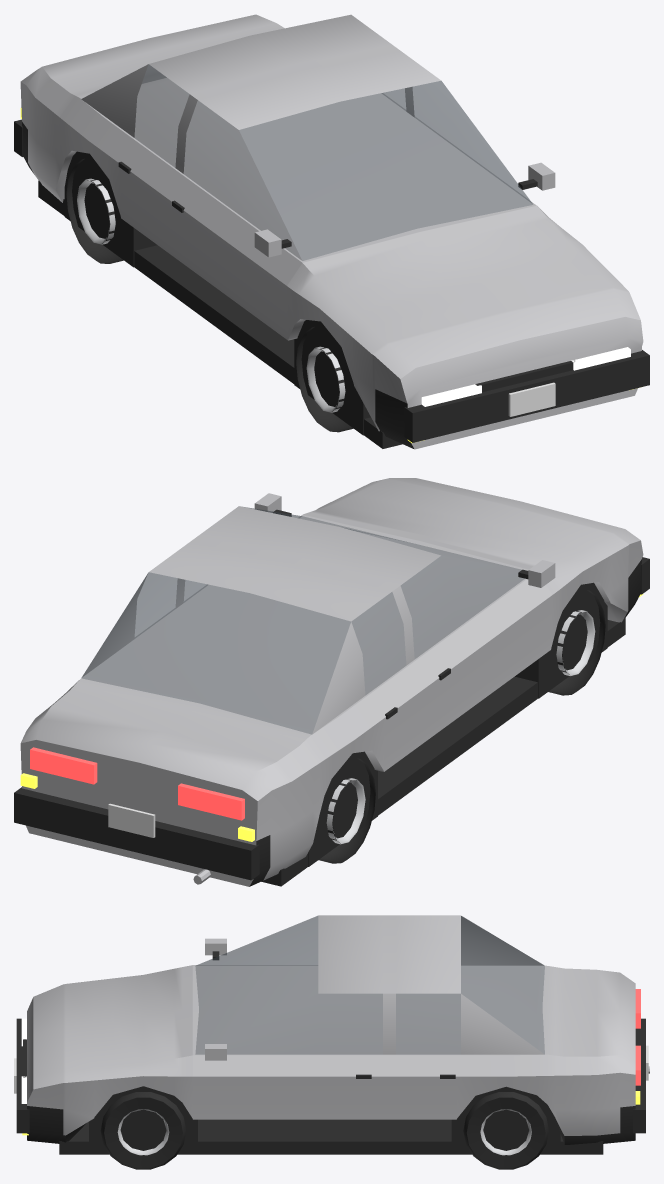
The model's file is sedan.glb.
The picture shows the model from 3 angles, top to bottom: view 1: azimuth 30°, elevation 25°; view 2: azimuth 150°, elevation 25°; view 3: azimuth 270°, elevation 25°; orthographic projection. The views are drawn at different scales.
Visible parts, largest first — view 1: body, wheel_fl, wheel_rl; view 2: body, wheel_fl, wheel_rl; view 3: body, wheel_fr, wheel_rr.
Part boxes in pixels (x1,y1,x2,y2): body: (14, 14, 649, 449); wheel_fl: (296, 327, 353, 432); wheel_rl: (66, 158, 123, 263); body: (14, 478, 649, 886); wheel_fl: (548, 590, 605, 695); wheel_rl: (318, 758, 375, 863); body: (14, 915, 649, 1154); wheel_fr: (100, 1092, 186, 1169); wheel_rr: (463, 1092, 548, 1169).
Size of the model in its own units: 2.02 by 1.44 by 4.91.
